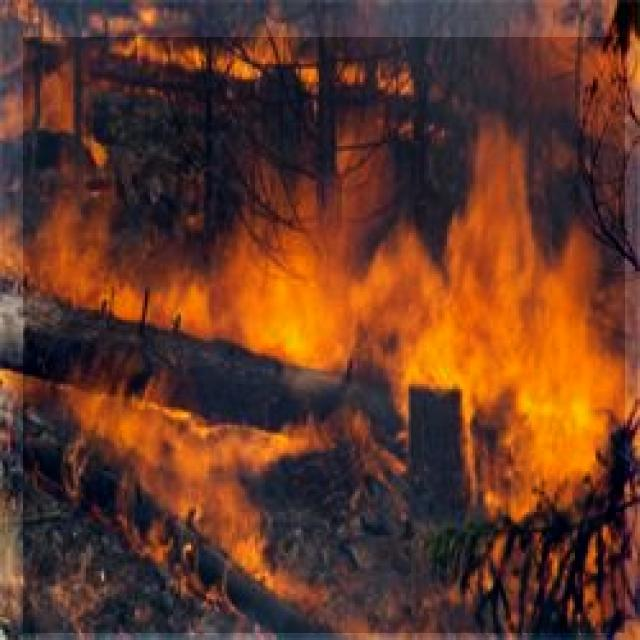Fire: (24, 37, 626, 633)
